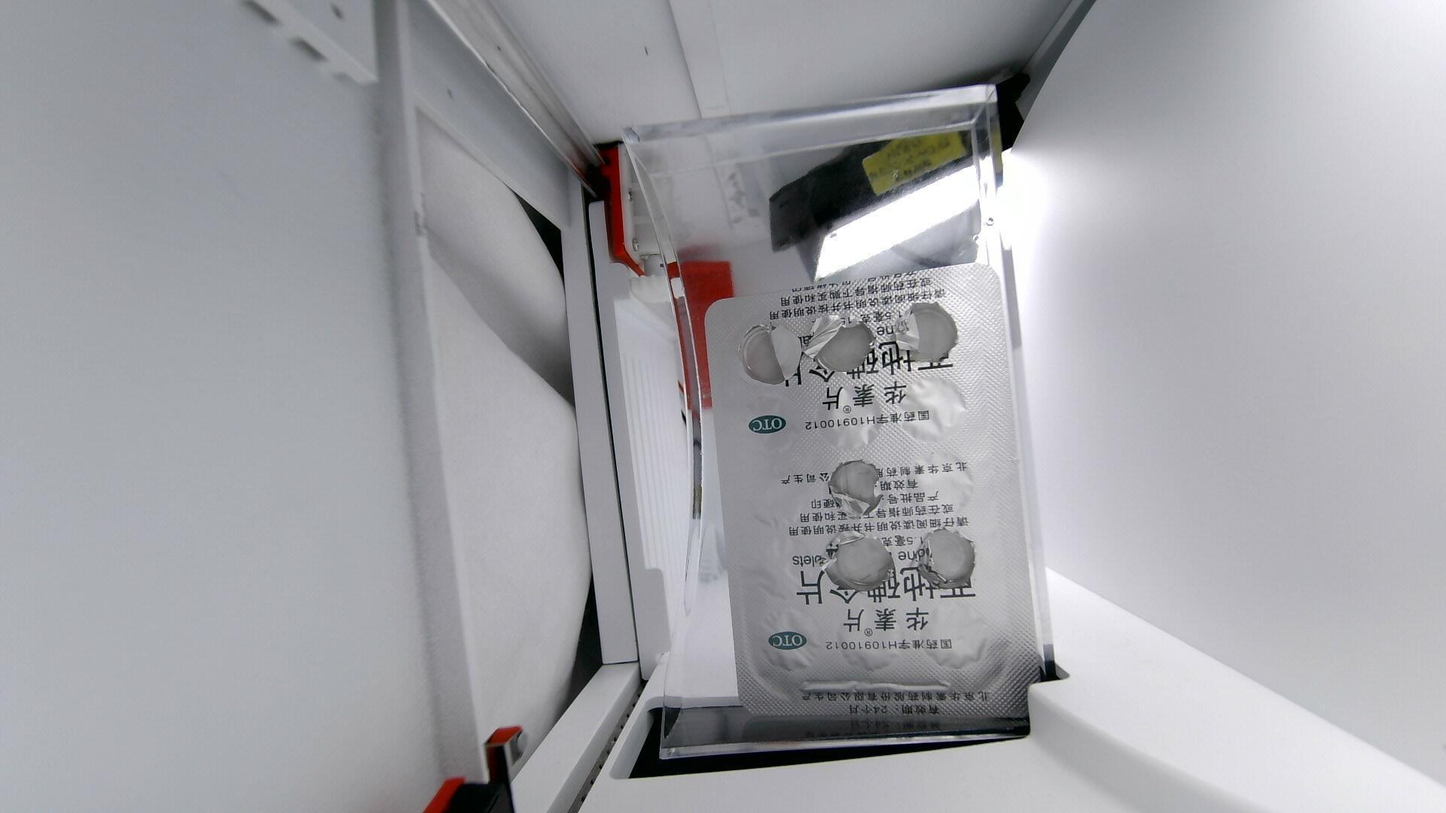No Pill Back: (887, 303, 957, 363), (824, 534, 895, 590), (740, 324, 801, 384), (917, 529, 975, 588), (828, 460, 882, 516), (816, 321, 875, 372)
Pill Back: (925, 601, 997, 673), (749, 534, 821, 605), (836, 601, 908, 671), (807, 388, 885, 449), (900, 452, 971, 519), (752, 611, 814, 681), (736, 398, 796, 470), (897, 382, 965, 440), (746, 472, 810, 529)
